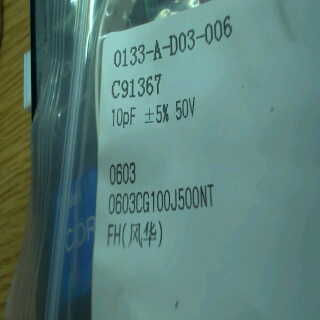10pF: (107, 101, 137, 136)
